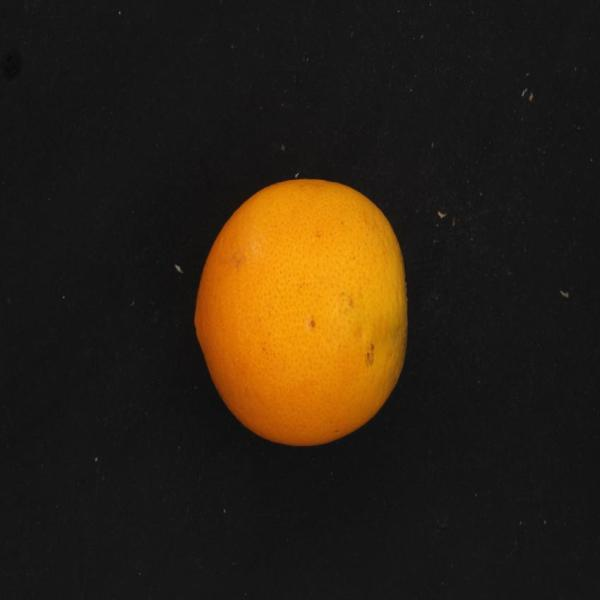Sana: (183, 160, 424, 462)
